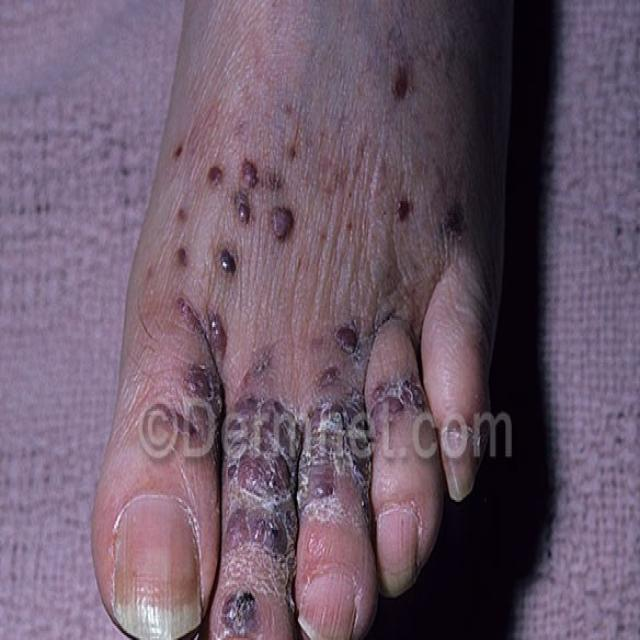Vascular Tumors: (164, 127, 315, 304), (218, 398, 351, 551), (185, 321, 246, 459), (370, 369, 431, 446), (315, 317, 361, 391), (217, 580, 261, 640), (387, 184, 419, 232), (388, 57, 418, 100)
